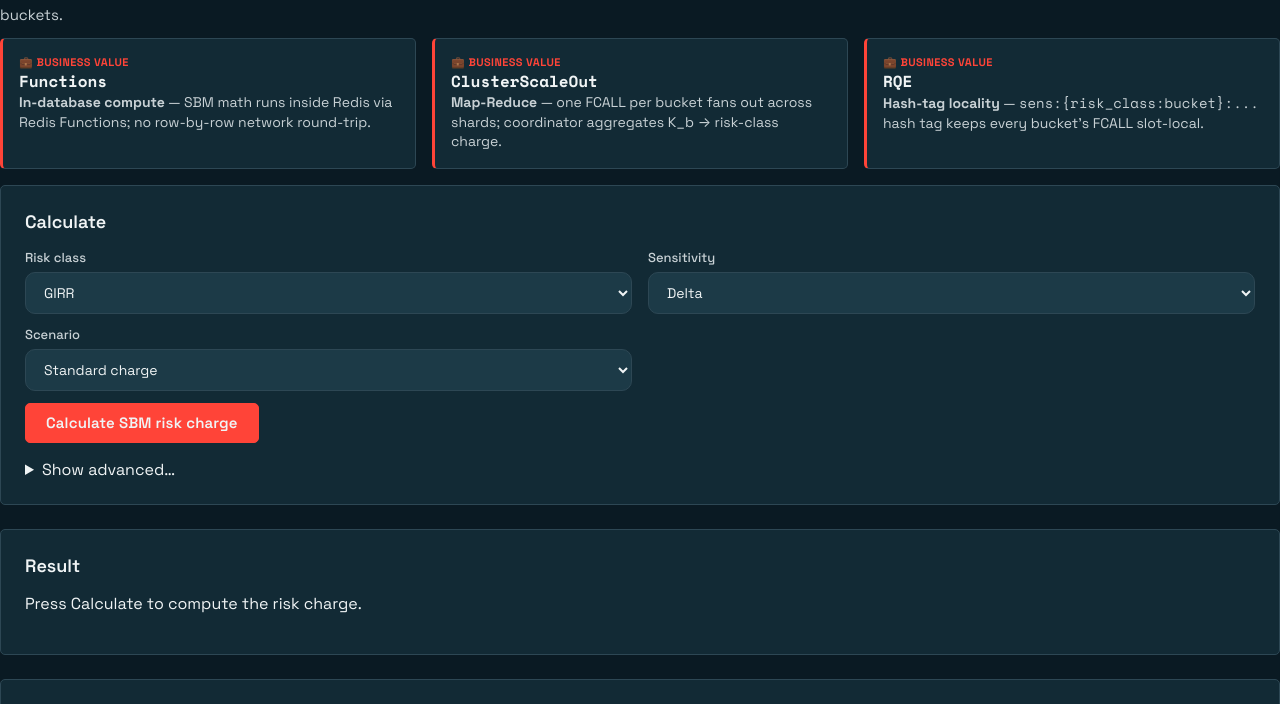
Scenario: <CalcPanel /> › renders the TimingStrip with per-shard timings from shard_breakdown
Click the button "Calculate SBM risk charge": coordinates (142, 423) [25,403,259,443]
(page scrolled)
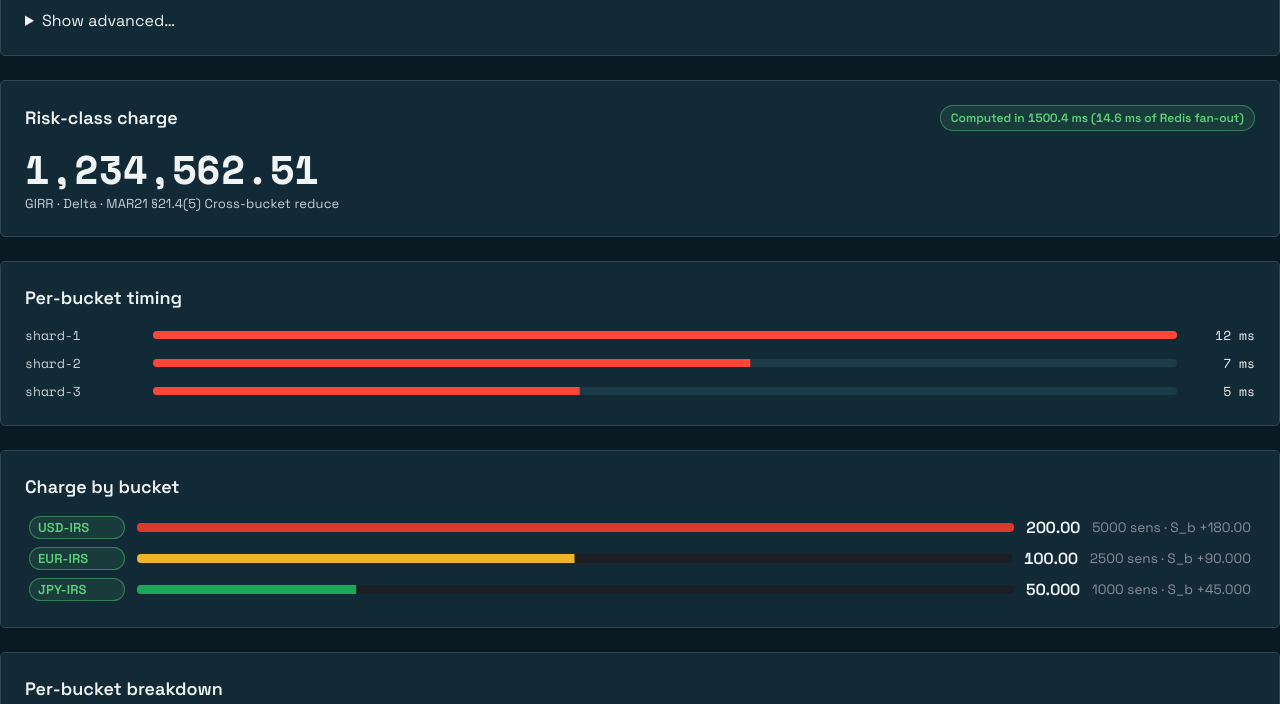
Result: the text "shard-1" is shown at [25,325,81,345]
Result: the text "shard-2" is shown at [25,353,81,373]
Result: the text "shard-3" is shown at [25,381,81,401]
